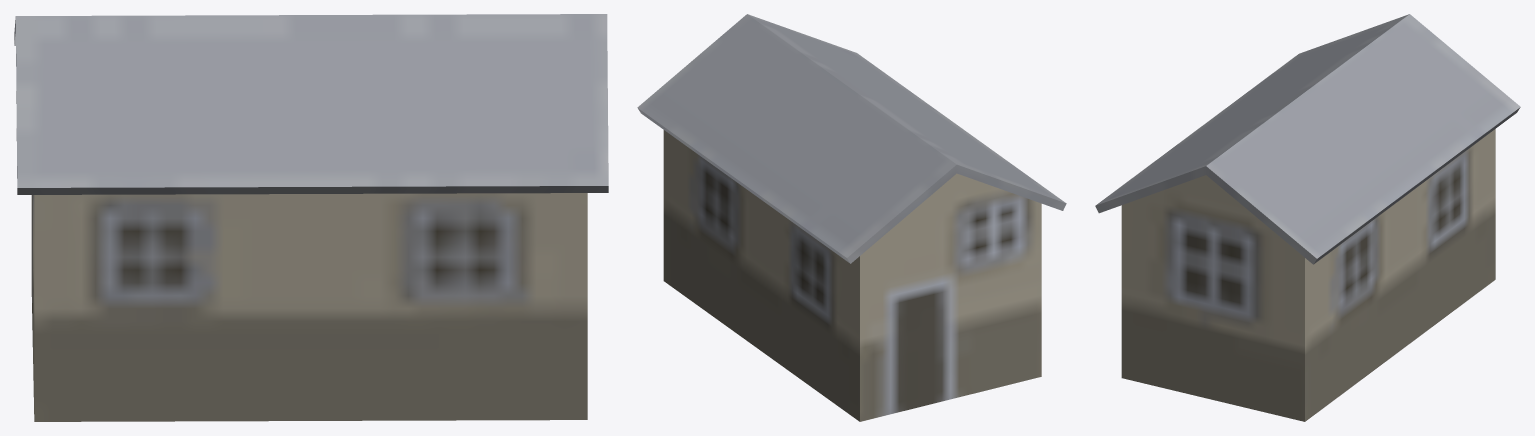
Rendered from FangZi.fbx.
The picture shows the model from 3 angles, left to right: view 1: azimuth 30°, elevation 25°; view 2: azimuth 150°, elevation 25°; view 3: azimuth 270°, elevation 25°; orthographic projection. The views are drawn at different scales.
Visible parts, largest first — view 1: Fangzi; view 2: Fangzi; view 3: Fangzi.
Part boxes in pixels (x1,y1,x2,y2): Fangzi: (14,14,608,421); Fangzi: (637,14,1066,421); Fangzi: (1095,14,1520,421).
Size of the model in its own units: 320 by 174 by 280.
